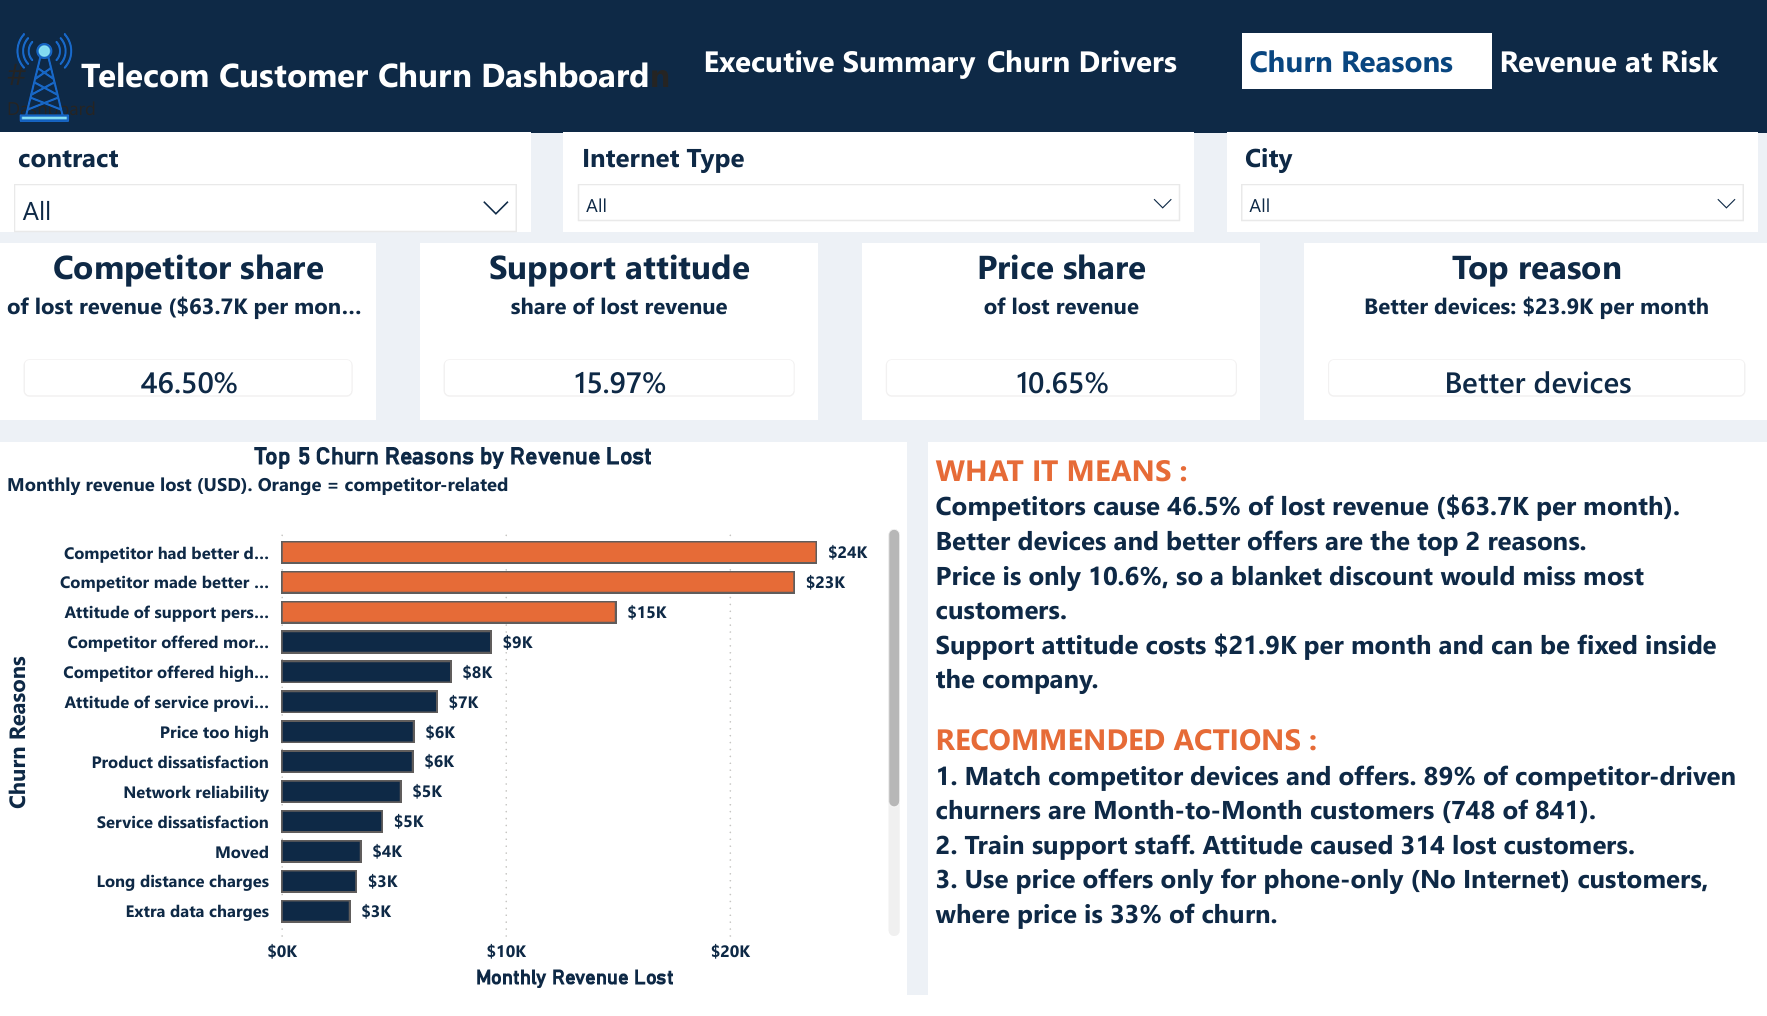

The page's visual inventory and layout, read from the dashboard file:
{"tool":"powerbi","page":{"name":"Churn Reasons","canvas":[1280,720],"ordinal":2},"visuals":[{"type":"shape","box":[0,0,1280,96],"z":0},{"type":"textbox","box":[0,32,496,64],"z":1000},{"type":"textbox","box":[504,24,216,48],"z":2000},{"type":"textbox","box":[709.3,24,200,40],"z":3000},{"type":"textbox","box":[898.7,24,200,40],"z":4000},{"type":"textbox","box":[1080,24,200,40],"z":5000},{"type":"slicer","title":"Contract","fields":{"Values":["Customers.contract"]},"box":[0,96,384,72],"z":6000},{"type":"slicer","fields":{"Values":["Customers.internet_type"]},"box":[408,96,456,72],"z":7000},{"type":"slicer","fields":{"Values":["Customers.city"]},"box":[888,96,384,72],"z":8000},{"type":"cardVisual","title":"Competitor share","fields":{"Data":["Customers.Competitor Share"]},"box":[0,176,272,128],"z":9000},{"type":"cardVisual","title":"Support attitude","fields":{"Data":["Customers.Attitude Share"]},"box":[304,176,288,128],"z":10000},{"type":"cardVisual","title":"Price share","fields":{"Data":["Customers.Price Share"]},"box":[624,176,288,128],"z":11000},{"type":"cardVisual","title":"Top reason","fields":{"Data":["Customers.Top Reason"]},"box":[944,176,336,128],"z":12000},{"type":"image","box":[0,24,64,64],"z":13000},{"type":"clusteredBarChart","title":"Top 5 Churn Reasons by Revenue Lost","fields":{"Category":["Customers.churn_reason"],"Y":["Customers.Monthly Revenue Lost"]},"box":[0,320,656,400],"z":13001},{"type":"textbox","box":[672,320,608,400],"z":13002}]}

Visuals, with their boxes in screenshot pixels (x1, y1, x2, y2), scaled from the page's 1280x720 canvas onto the 1767x1016 screenshot:
shape: pyautogui.locateOnScreen(0, 0, 1766, 135)
textbox: pyautogui.locateOnScreen(0, 45, 685, 135)
textbox: pyautogui.locateOnScreen(696, 34, 994, 102)
textbox: pyautogui.locateOnScreen(979, 34, 1255, 90)
textbox: pyautogui.locateOnScreen(1241, 34, 1517, 90)
textbox: pyautogui.locateOnScreen(1491, 34, 1766, 90)
"Contract" slicer: pyautogui.locateOnScreen(0, 135, 530, 237)
slicer - Customers.internet_type: pyautogui.locateOnScreen(563, 135, 1193, 237)
slicer - Customers.city: pyautogui.locateOnScreen(1226, 135, 1756, 237)
"Competitor share" cardVisual: pyautogui.locateOnScreen(0, 248, 375, 429)
"Support attitude" cardVisual: pyautogui.locateOnScreen(420, 248, 817, 429)
"Price share" cardVisual: pyautogui.locateOnScreen(861, 248, 1259, 429)
"Top reason" cardVisual: pyautogui.locateOnScreen(1303, 248, 1766, 429)
image: pyautogui.locateOnScreen(0, 34, 88, 124)
"Top 5 Churn Reasons by Revenue Lost" clusteredBarChart: pyautogui.locateOnScreen(0, 452, 906, 1015)
textbox: pyautogui.locateOnScreen(928, 452, 1766, 1015)
